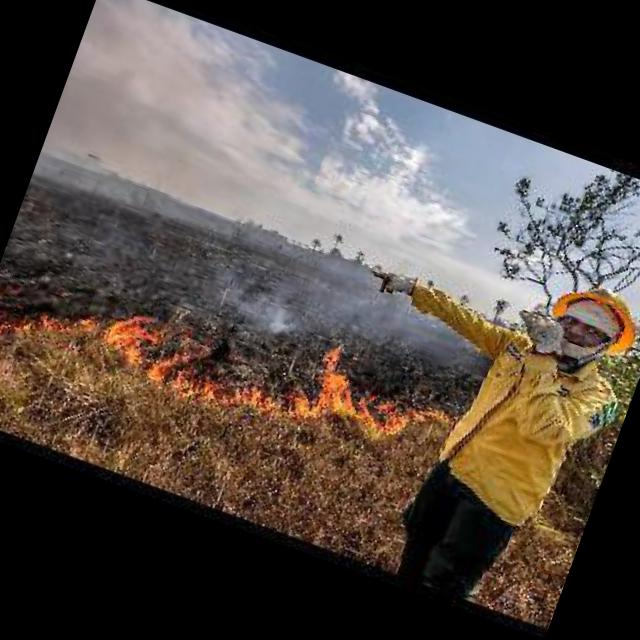fire: (0, 226, 472, 489)
smoke: (222, 256, 286, 354)
